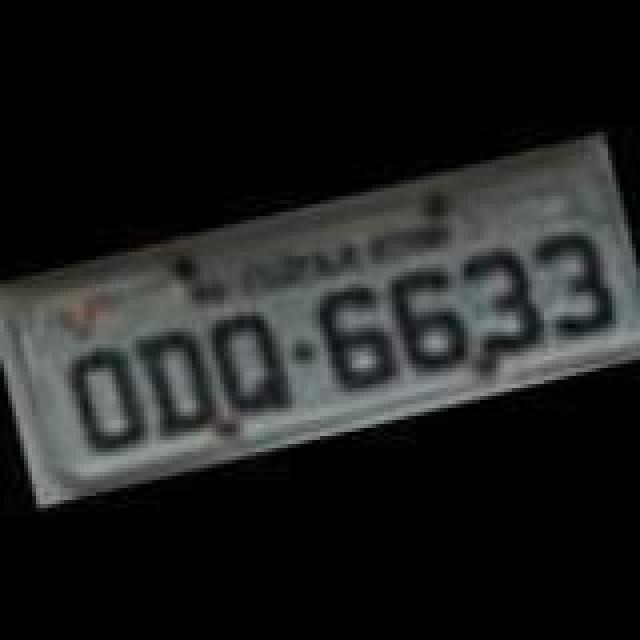3: (520, 214, 624, 346), (444, 236, 548, 364)
6: (376, 254, 480, 382), (306, 274, 406, 398)
D: (132, 316, 228, 440)
O: (56, 334, 156, 458)
Q: (196, 300, 300, 424)
